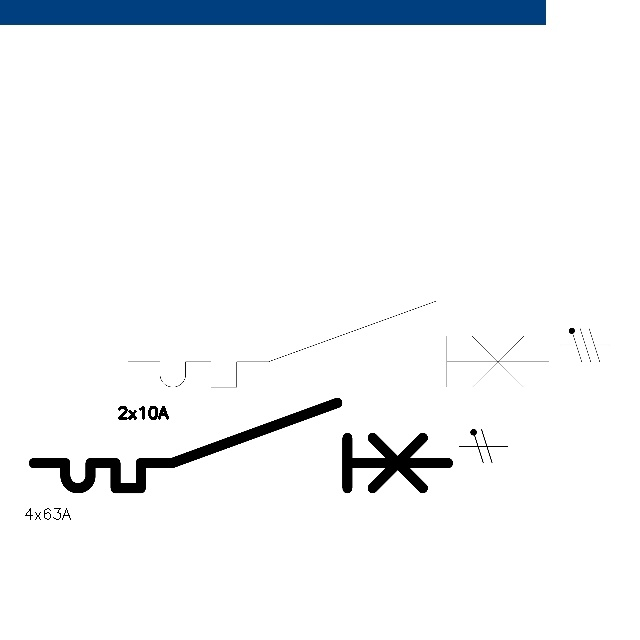interruptor_termomagnetico: (117, 290, 560, 398), (23, 392, 459, 499)
